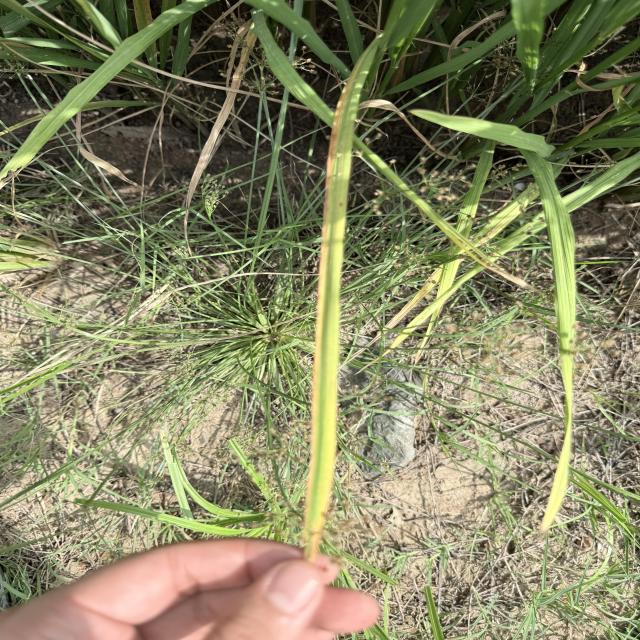Chay bia la: (310, 38, 374, 469)
